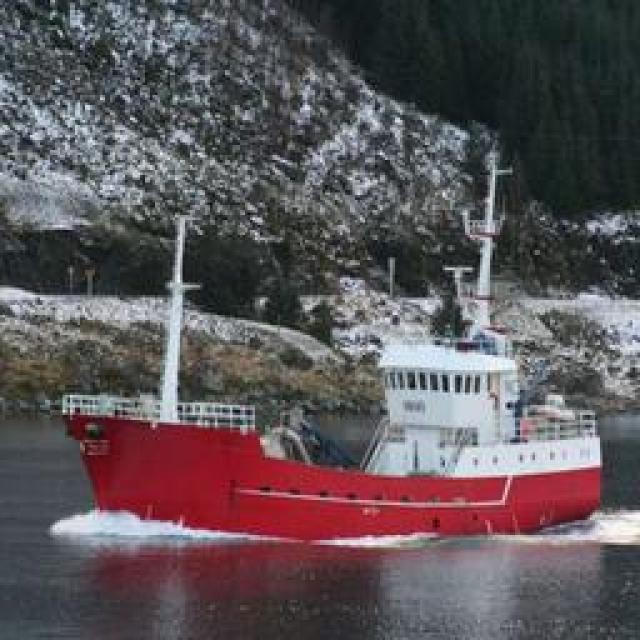CIV_Ship: (64, 362, 596, 540)
